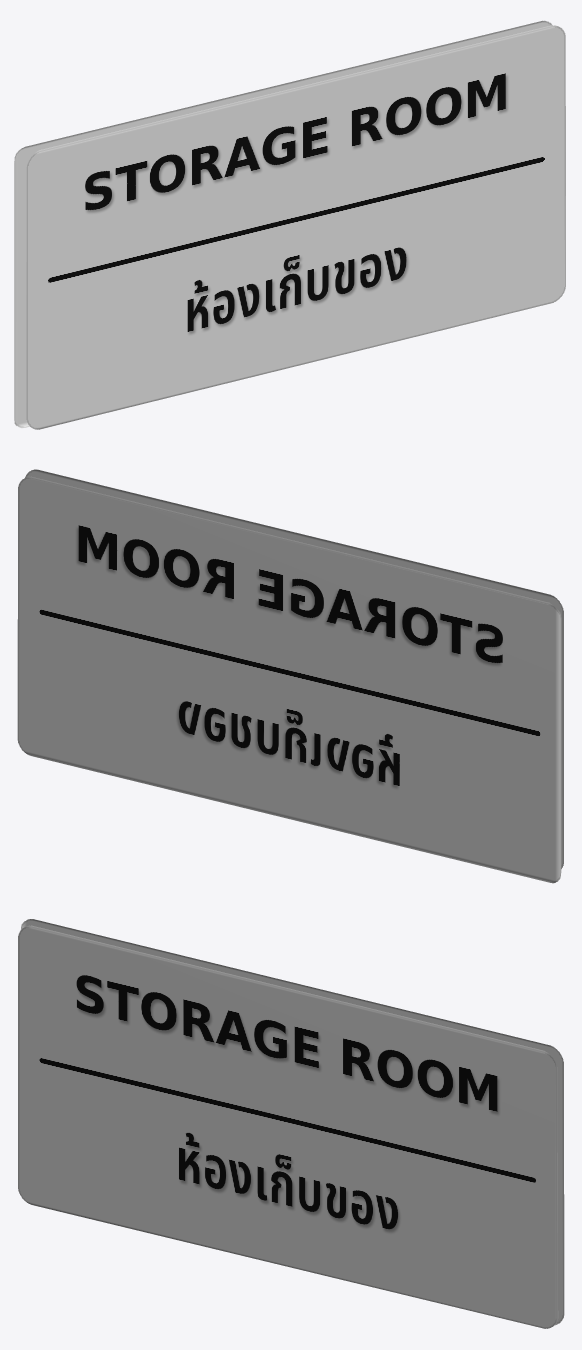
File: storageroom.fbx
3 views of the same model, one above another, from view 1: azimuth 30°, elevation 25°; view 2: azimuth 150°, elevation 25°; view 3: azimuth 330°, elevation 25° (orthographic).
Parts seen in each view (by area): view 1: Storage Room Sign Plate; view 2: Storage Room Sign Plate; view 3: Storage Room Sign Plate.
Part boxes in pixels (x1,y1,x2,y2): Storage Room Sign Plate: [14, 20, 565, 429]; Storage Room Sign Plate: [17, 469, 563, 883]; Storage Room Sign Plate: [18, 919, 564, 1328].
Size of the model in its own units: 30 by 15 by 0.8.
1 material, 1 textured.
